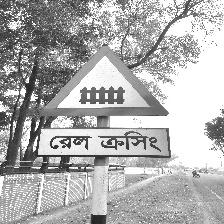Rail-crossing: (35, 46, 172, 159)
